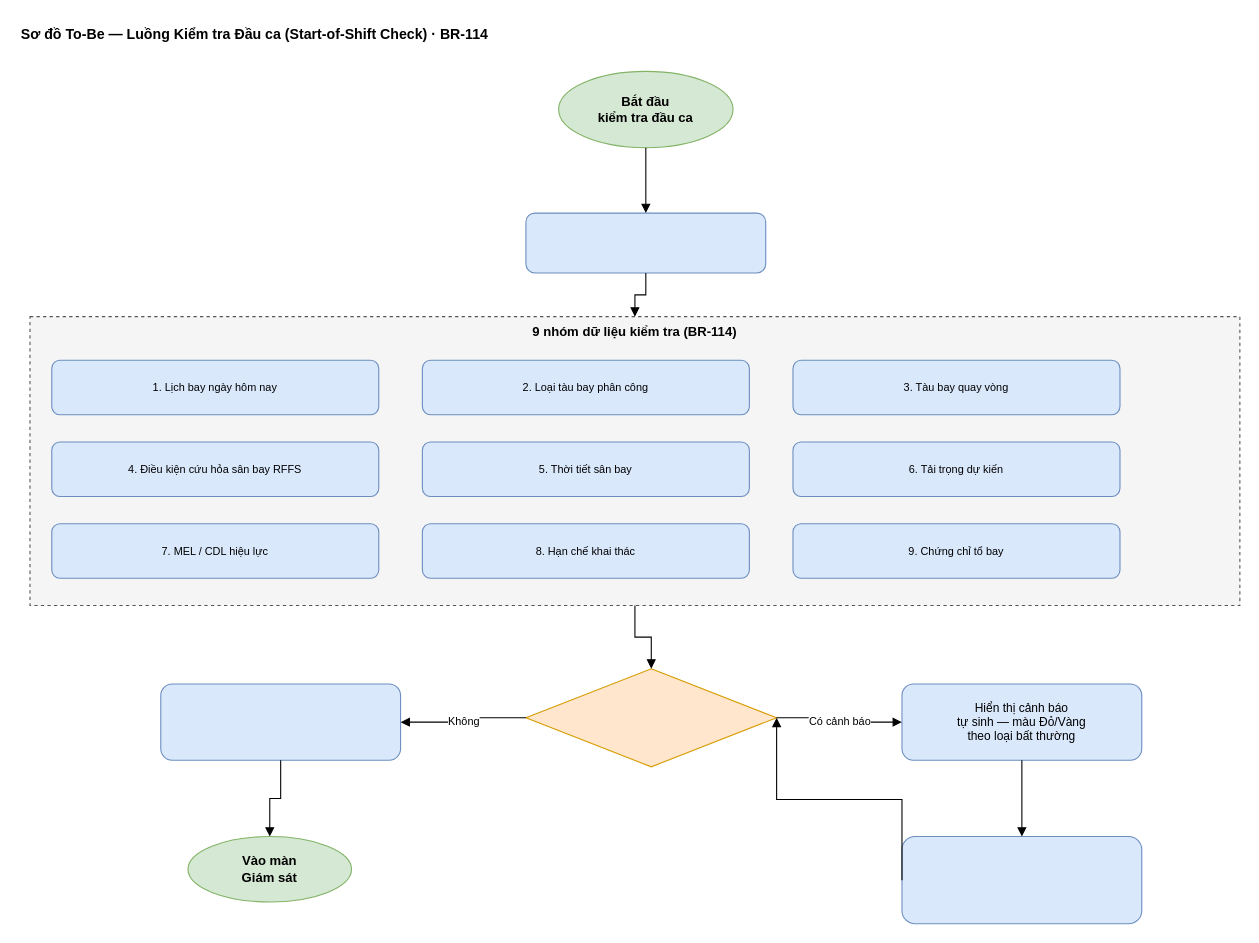
The diagram is 1259 pixels wide and 943 high, and some of its shapes have lost their labels. Each missing label, with the centre of its shape:
Hiển thị trạng thái bình thường — tiếp tục vào màn Giám sát: the point at 280,721
TOSS phát hiện bất thường?: the point at 651,717
TOSS tổng hợp tự động 9 nhóm dữ liệu: the point at 645,242
Điều phái ghi nhận và chuyển sang hệ thống chuyên dụng nếu cần xử lý: the point at 1021,879
